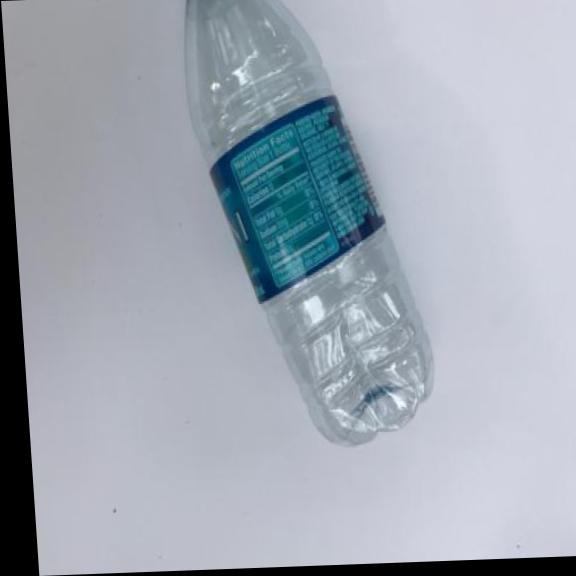Plastik: (171, 0, 445, 456)
